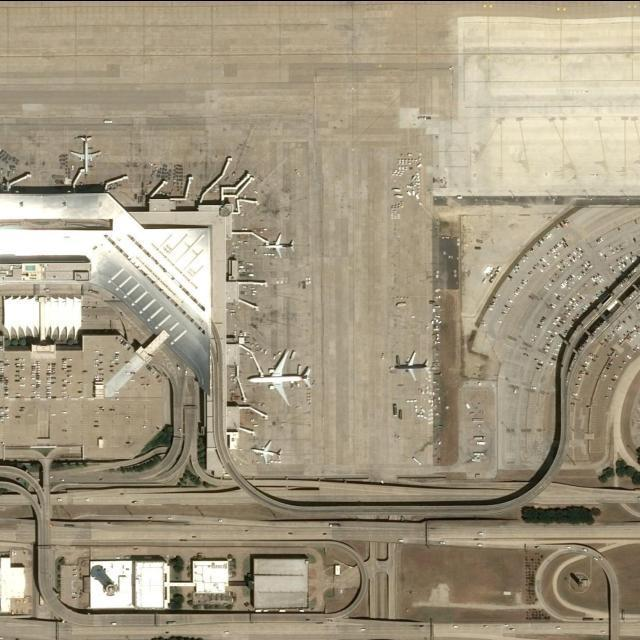Aircraft: (247, 346, 310, 404), (69, 130, 100, 170), (394, 352, 429, 380), (264, 231, 294, 254), (251, 440, 281, 462)
